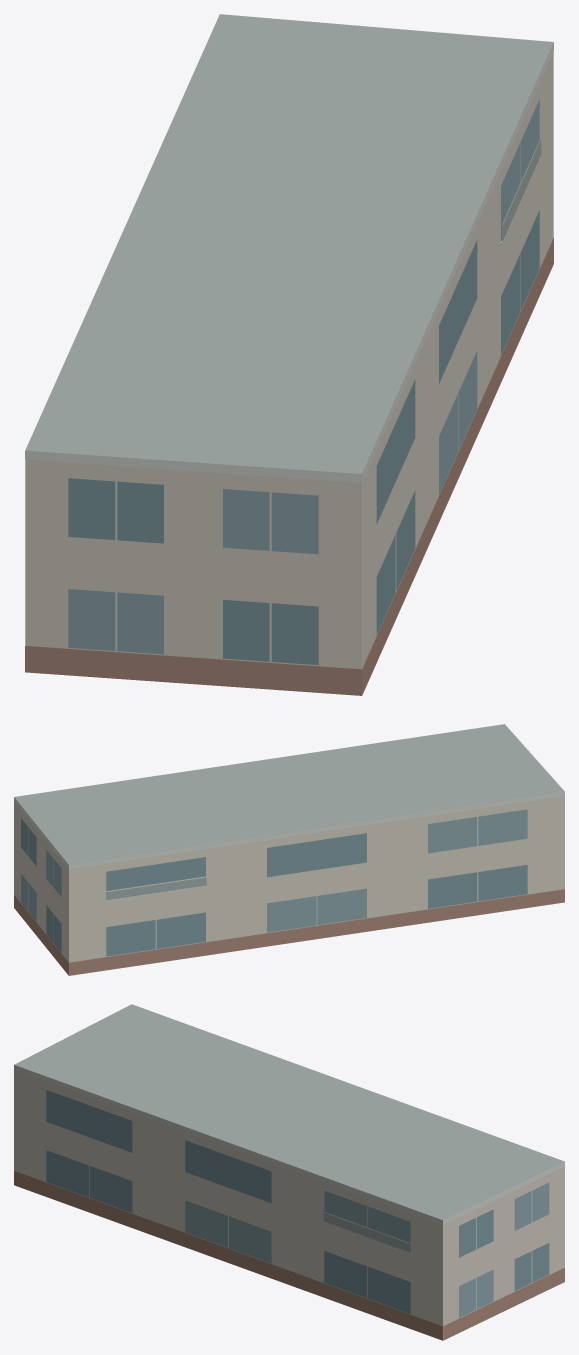
File: survey-upis-32665594.glb
3 renders of one model, top to bottom at view 1: azimuth 30°, elevation 25°; view 2: azimuth 150°, elevation 25°; view 3: azimuth 270°, elevation 25°, orthographic. The views are drawn at different scales.
Visible parts, largest first — view 1: survey-upis-32665594.tmp; view 2: survey-upis-32665594.tmp; view 3: survey-upis-32665594.tmp.
Boxes of the visible parts, bbox=[...] form: survey-upis-32665594.tmp: bbox=[25, 14, 553, 695]; survey-upis-32665594.tmp: bbox=[14, 724, 564, 975]; survey-upis-32665594.tmp: bbox=[14, 1004, 564, 1340].
Size of the model in its own units: 23.48 by 6.1 by 25.28.
